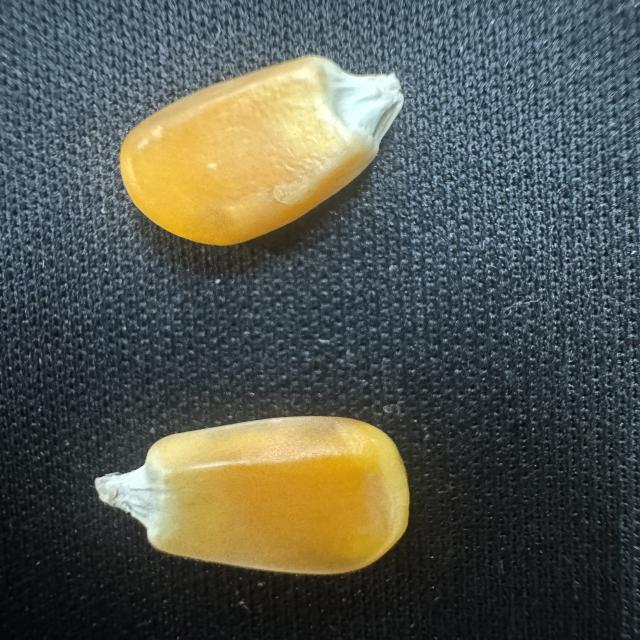Good-Seed: (115, 49, 409, 250), (88, 409, 416, 580)
